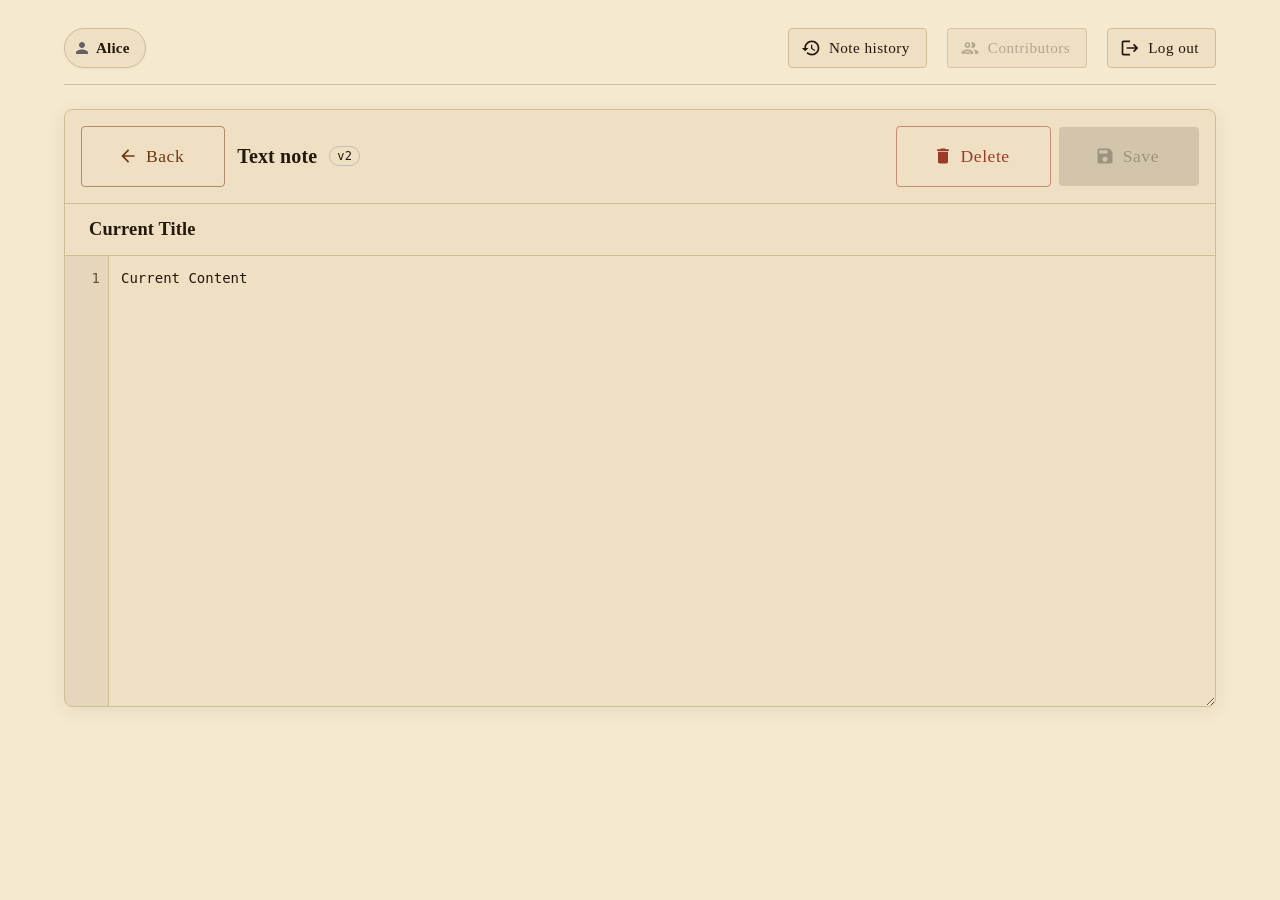
Test: NoteEditor Client Component › Version history drawer integration › switches to snapshot preview when a past version is clicked, and restores active draft on exit
The image size is (1280, 900).
Note: Open drawer
Click the button "Note history" at (857, 48), box [788,28,927,68]
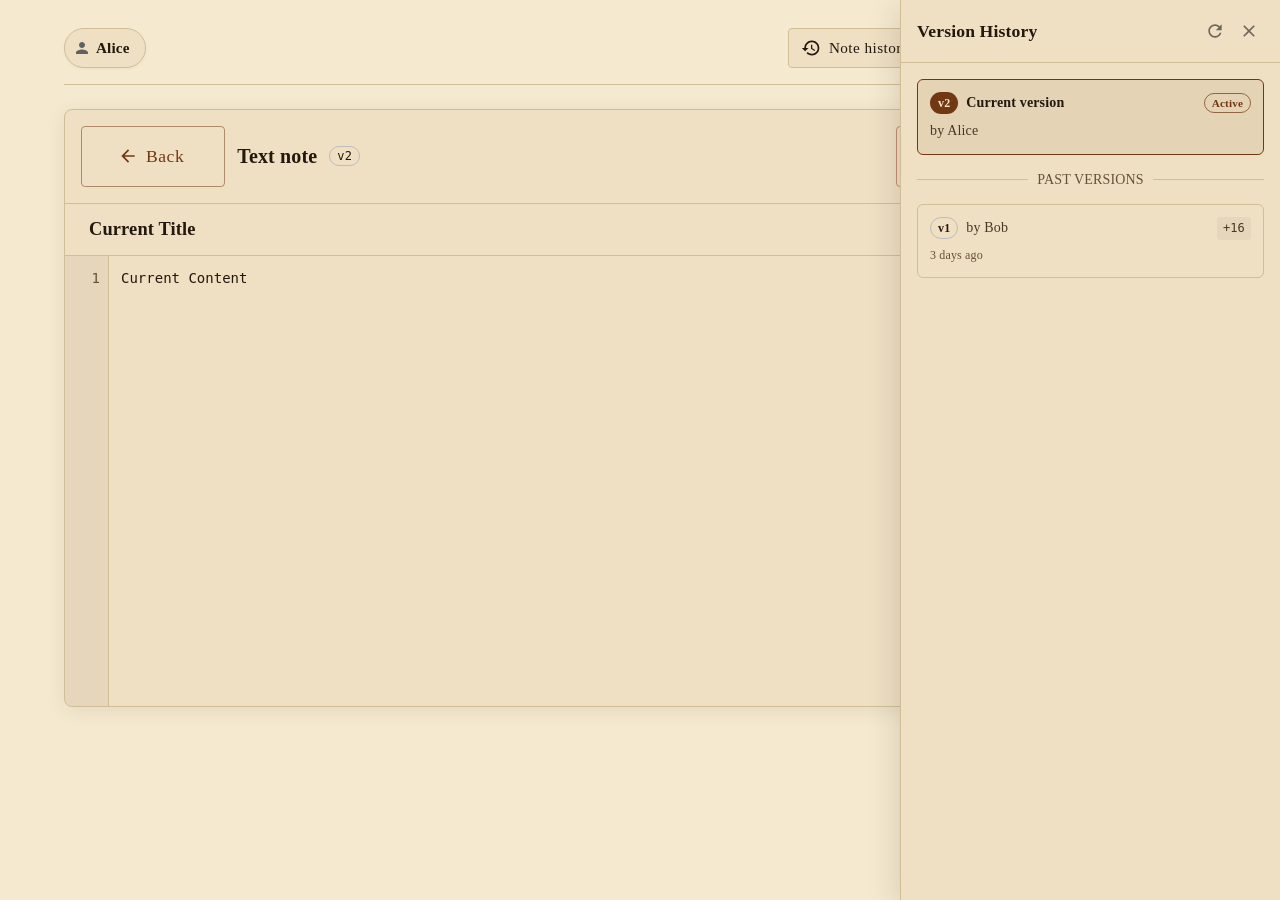
Now the text "by Bob" is shown, box [966,217,1008,240]
Note: Click historical version v1
Click the button "by Bob" at (1234, 228), box [917,204,1264,278]
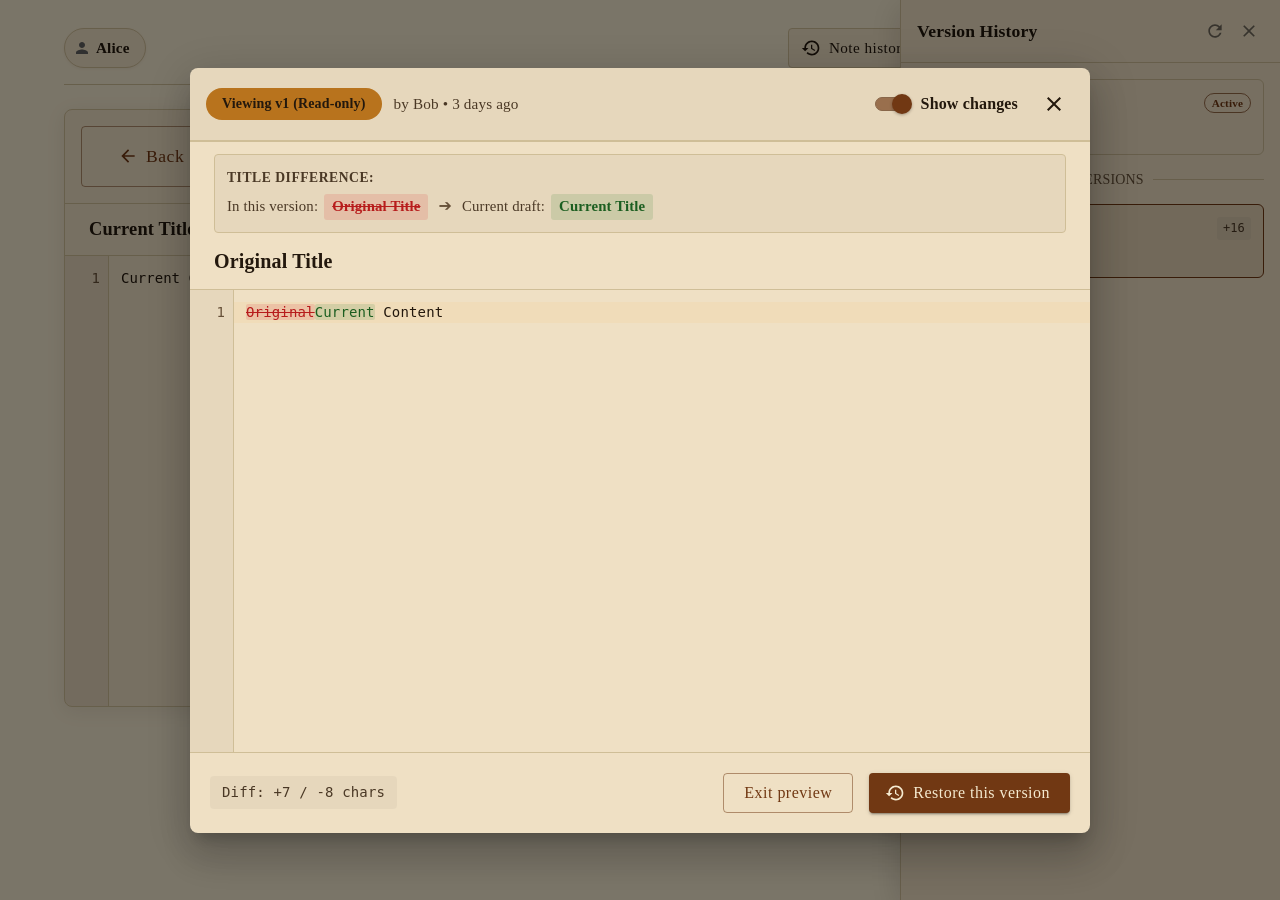
Now the dialog is shown, box [190,68,1090,832]
Now the text "Viewing v1 (Read-only)" is shown, box [210,93,378,114]
Now the element named "Note diff content" is shown, box [234,302,1090,323]
Note: Toggle diff off to view raw snapshot
Click the switch labelled "Show changes" at (946, 104), box [875,94,1018,114]
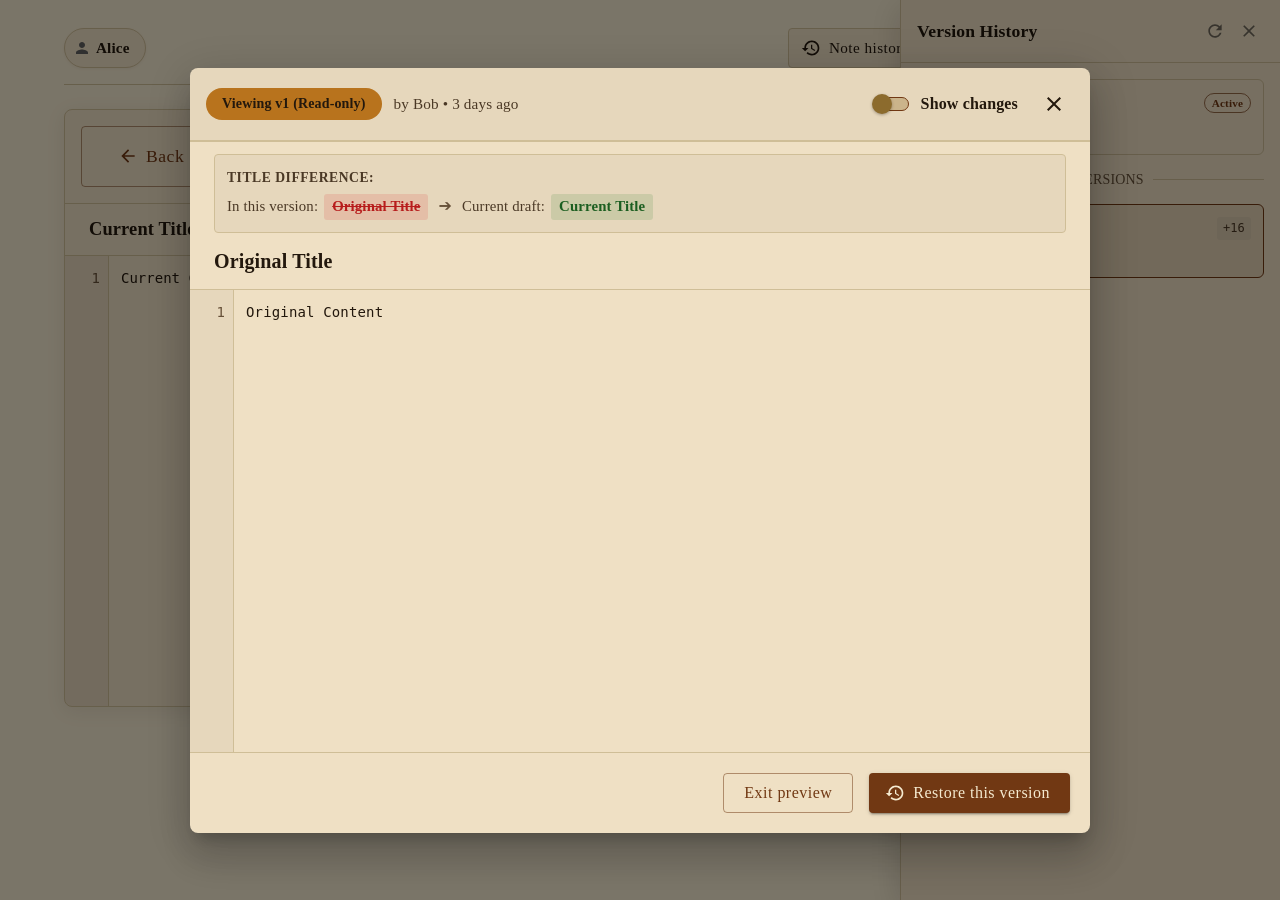
Expected: the button "Save" is disabled, [1059,127,1199,186]
Now the button "Delete" is disabled, box [896,126,1051,187]
Now the text named "Note content snapshot" reads "Original Content", box [246,304,383,320]
Note: Click Exit preview
Click the button "Exit preview" at (788, 792), box [723,772,853,812]
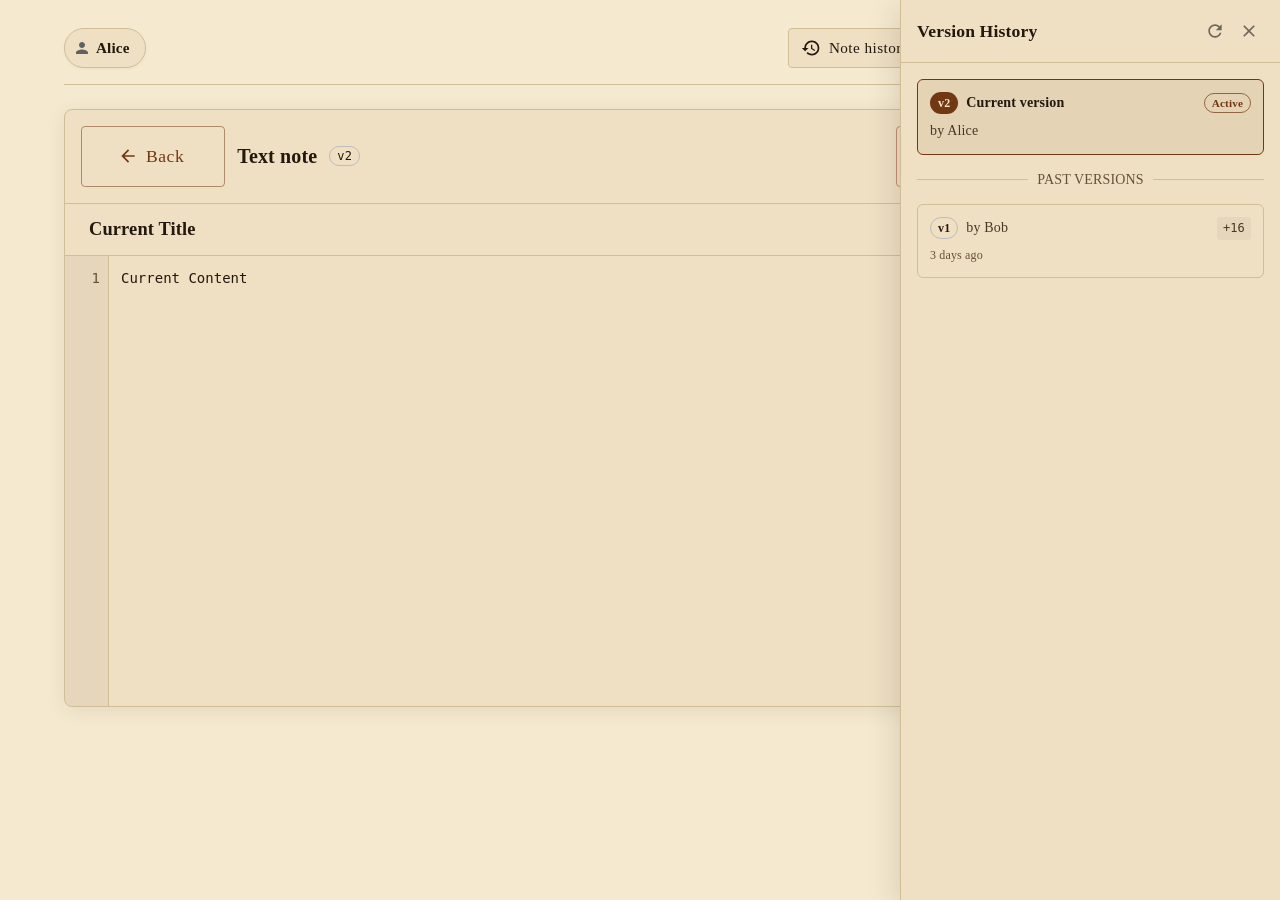
Expected: the text box named "note content" holds "Current Content", [109,256,1215,706]
Now the dialog is gone
Now the text "Viewing v1 (Read-only)" is gone
